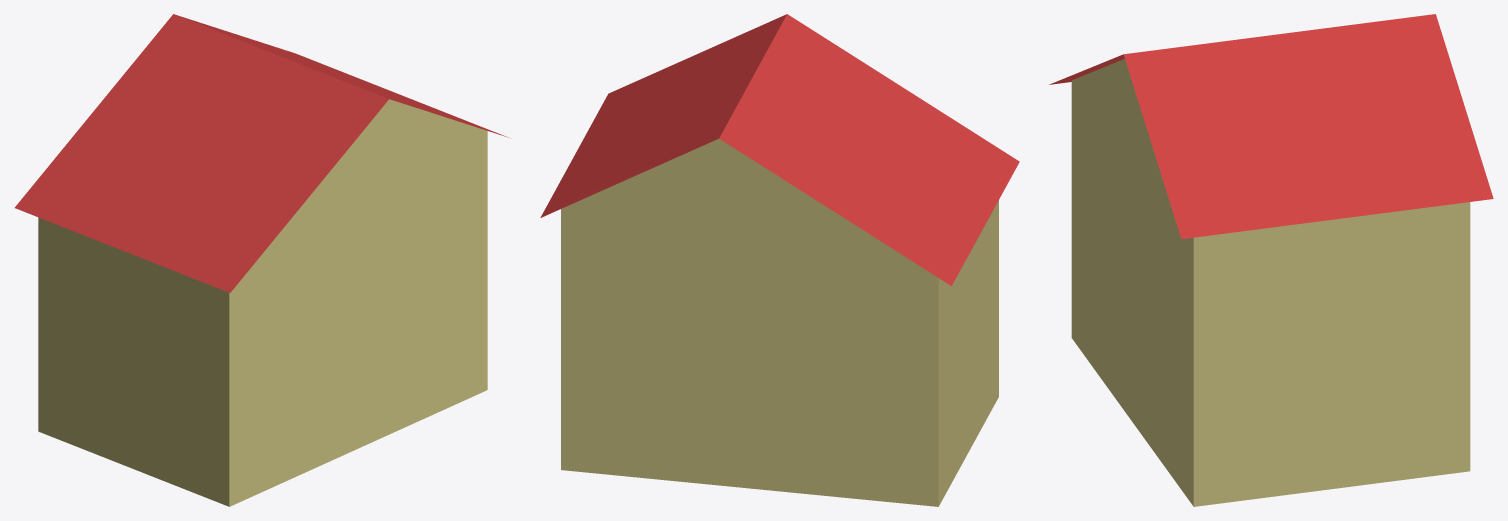
3 renders of one model, left to right at view 1: azimuth 30°, elevation 25°; view 2: azimuth 150°, elevation 25°; view 3: azimuth 270°, elevation 25°, orthographic. The views are drawn at different scales.
Bounding box in the file's own units: 14.22 × 11.92 × 11.3.
